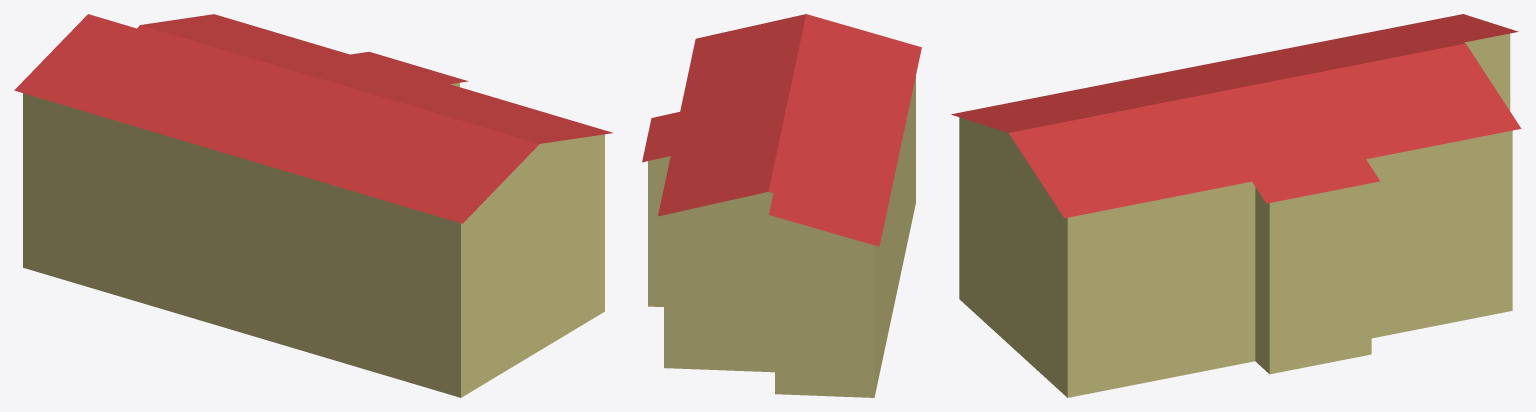
3 views of the same model, side by side, from view 1: azimuth 30°, elevation 25°; view 2: azimuth 150°, elevation 25°; view 3: azimuth 270°, elevation 25° (orthographic). The views are drawn at different scales.
Size of the model in its own units: 18.26 by 21.57 by 9.08.
